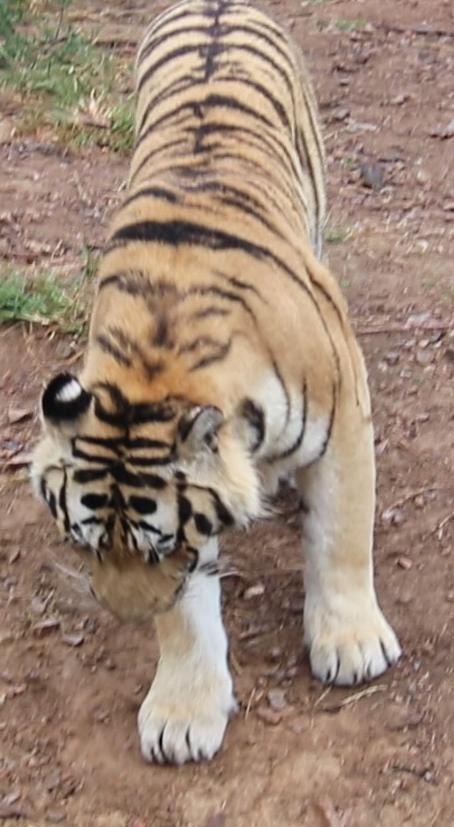tiger: (29, 0, 399, 763)
